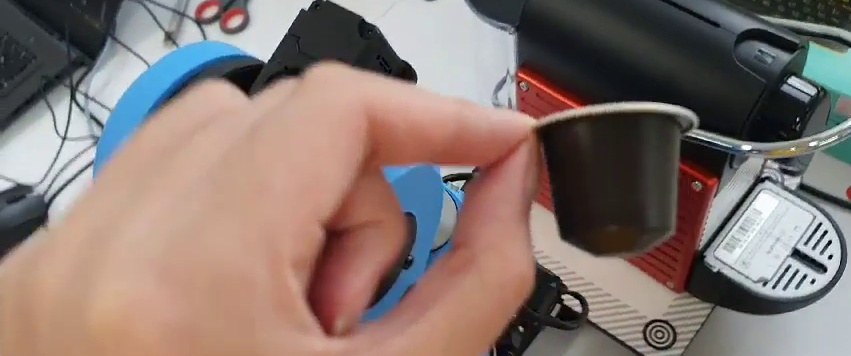capsule_4: (530, 96, 698, 259)
